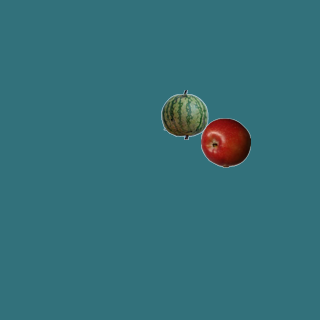Apple Braeburn: (200, 117, 250, 167)
Watermelon: (159, 89, 209, 139)
